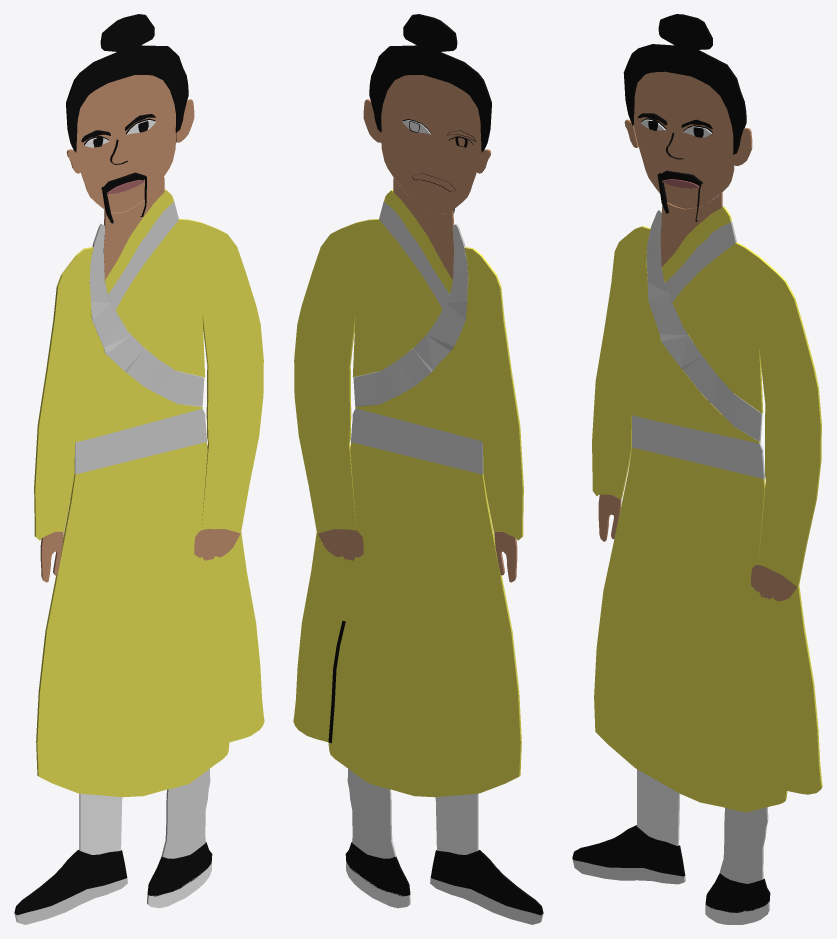
The model's file is sun_little.dae.
The picture shows the model from 3 angles, left to right: view 1: azimuth 30°, elevation 25°; view 2: azimuth 150°, elevation 25°; view 3: azimuth 330°, elevation 25°; orthographic projection.
Visible parts, largest first — view 1: Cube_047; view 2: Cube_047; view 3: Cube_047.
Part boxes in pixels (<box>): Cube_047: <box>14,14,264,924</box>; Cube_047: <box>293,14,543,924</box>; Cube_047: <box>572,14,822,924</box>.
Bounding box in the file's own units: 2.7 × 0.0755 × 9.32.
